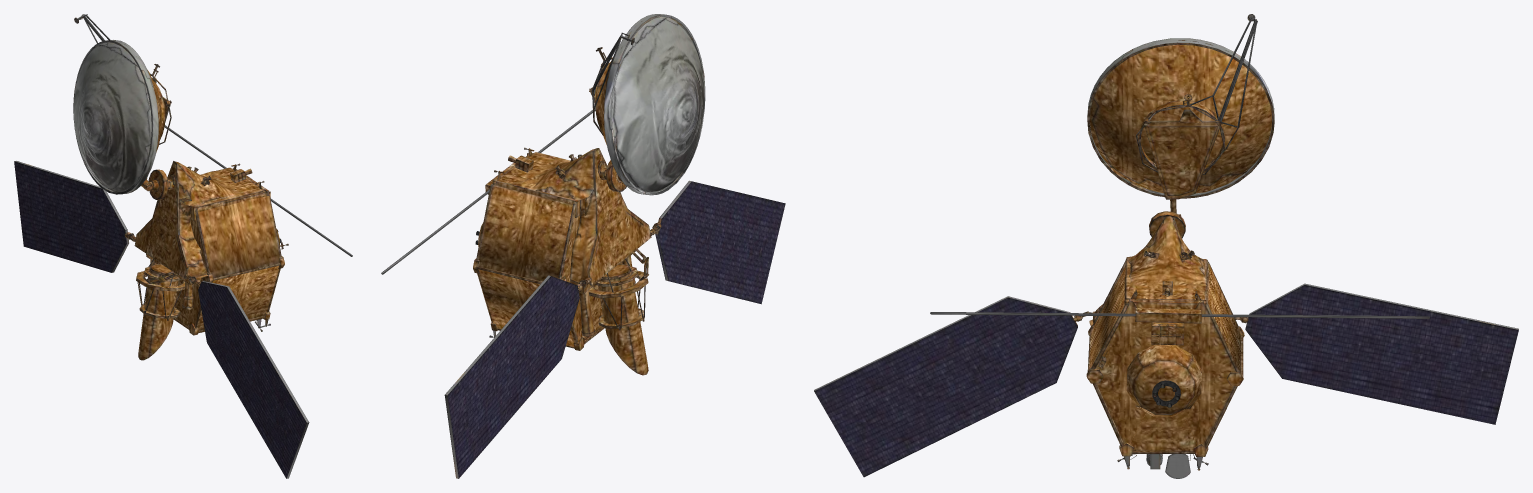
Rendered from mars-reconnaissance-orbiter-mro-a.glb.
3 views of the same model, side by side, from view 1: azimuth 30°, elevation 25°; view 2: azimuth 150°, elevation 25°; view 3: azimuth 270°, elevation 25° (orthographic). The views are drawn at different scales.
Visible parts, largest first — view 1: mro_proxy7, mro_proxy5, mro_proxy3, mro_proxy6, mro_proxy2; view 2: mro_proxy7, mro_proxy5, mro_proxy3, mro_proxy6, mro_proxy2; view 3: mro_proxy7, mro_proxy6, mro_proxy5.
Boxes of the visible parts, x1=… form: mro_proxy7: x1=14, y1=14, x2=352, y2=478; mro_proxy5: x1=134, y1=161, x2=213, y2=335; mro_proxy3: x1=129, y1=173, x2=193, y2=360; mro_proxy6: x1=230, y1=163, x2=284, y2=328; mro_proxy2: x1=137, y1=259, x2=181, y2=320; mro_proxy7: x1=381, y1=14, x2=785, y2=478; mro_proxy5: x1=477, y1=148, x2=660, y2=350; mro_proxy3: x1=581, y1=160, x2=658, y2=375; mro_proxy6: x1=473, y1=147, x2=534, y2=337; mro_proxy2: x1=601, y1=249, x2=648, y2=330; mro_proxy7: x1=814, y1=14, x2=1518, y2=477; mro_proxy6: x1=1086, y1=281, x2=1243, y2=470; mro_proxy5: x1=1082, y1=217, x2=1244, y2=478.
Bounding box in the file's own units: 32.77 × 61 × 89.74.
2 materials, 2 textured.
